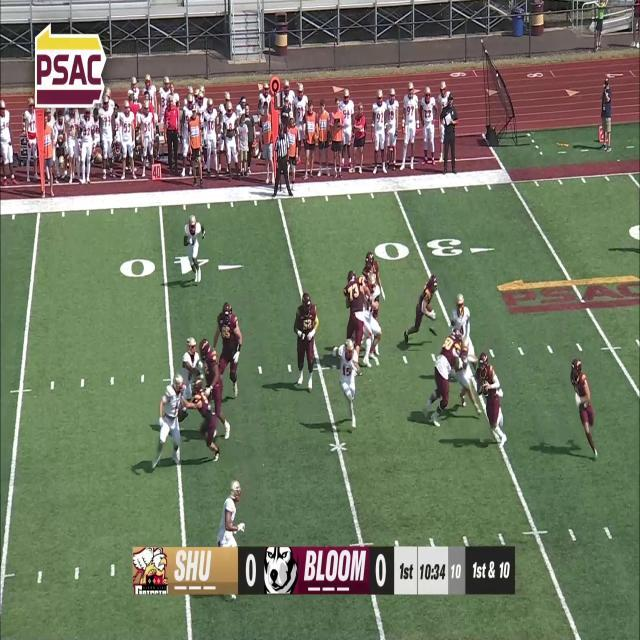football: (481, 382, 489, 399)
